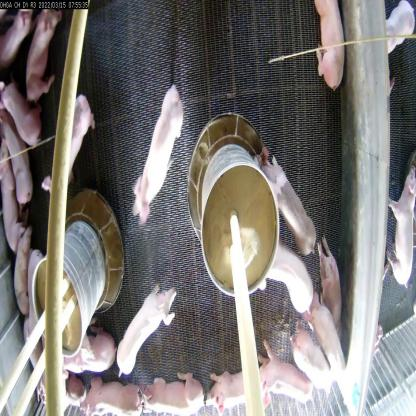Pig: (133, 70, 185, 219), (258, 141, 318, 264), (118, 277, 179, 378), (300, 287, 347, 384), (261, 242, 315, 324), (386, 153, 416, 289), (313, 226, 345, 349), (202, 360, 271, 416), (255, 336, 311, 404), (57, 323, 118, 385), (24, 9, 63, 97), (141, 365, 204, 416), (289, 323, 331, 397), (307, 3, 344, 87), (0, 130, 25, 252), (78, 371, 143, 415)
